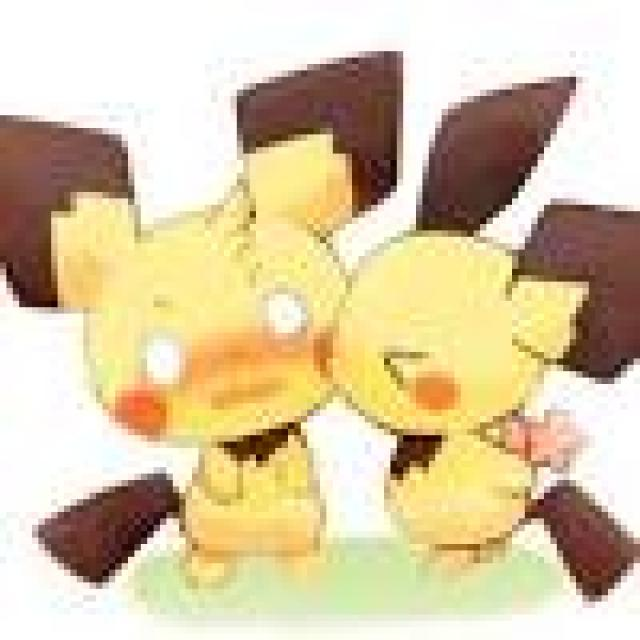pichu: (0, 6, 400, 606), (324, 3, 640, 609)
